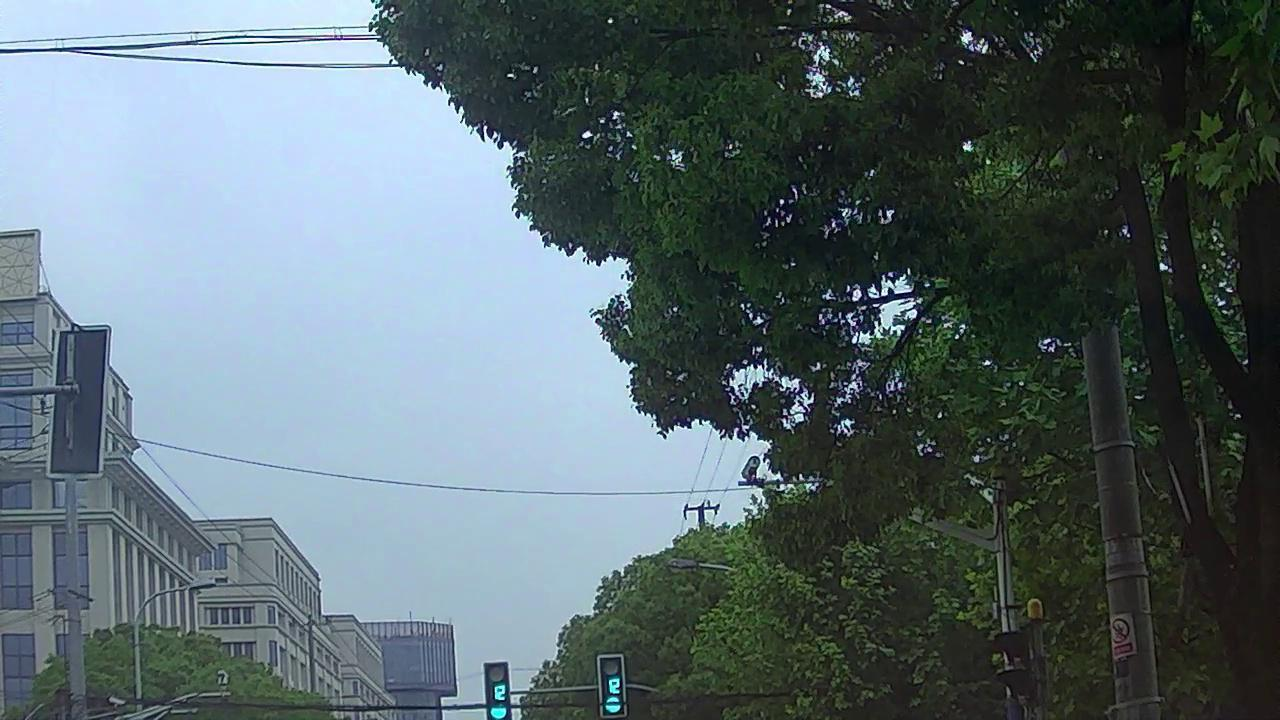traffic_light: (484, 664, 511, 720), (598, 659, 623, 719)
